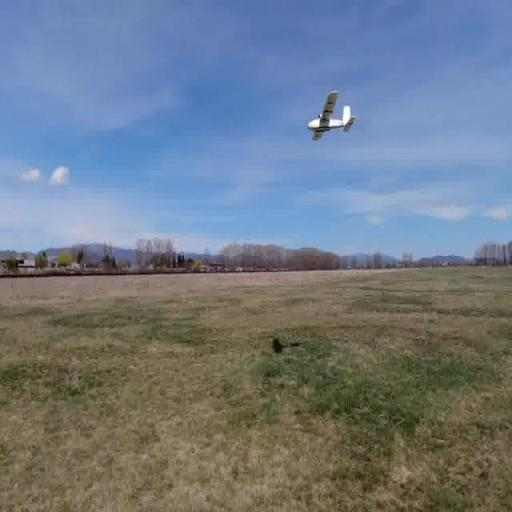uav: (306, 90, 360, 152)
